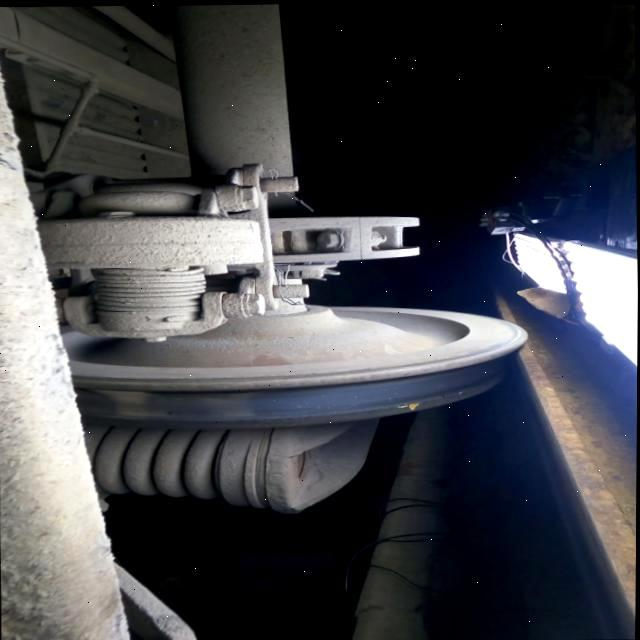Cracks-Scratches: (397, 400, 420, 408)
Shelling: (88, 388, 264, 421)
Wheel: (63, 303, 528, 427)
